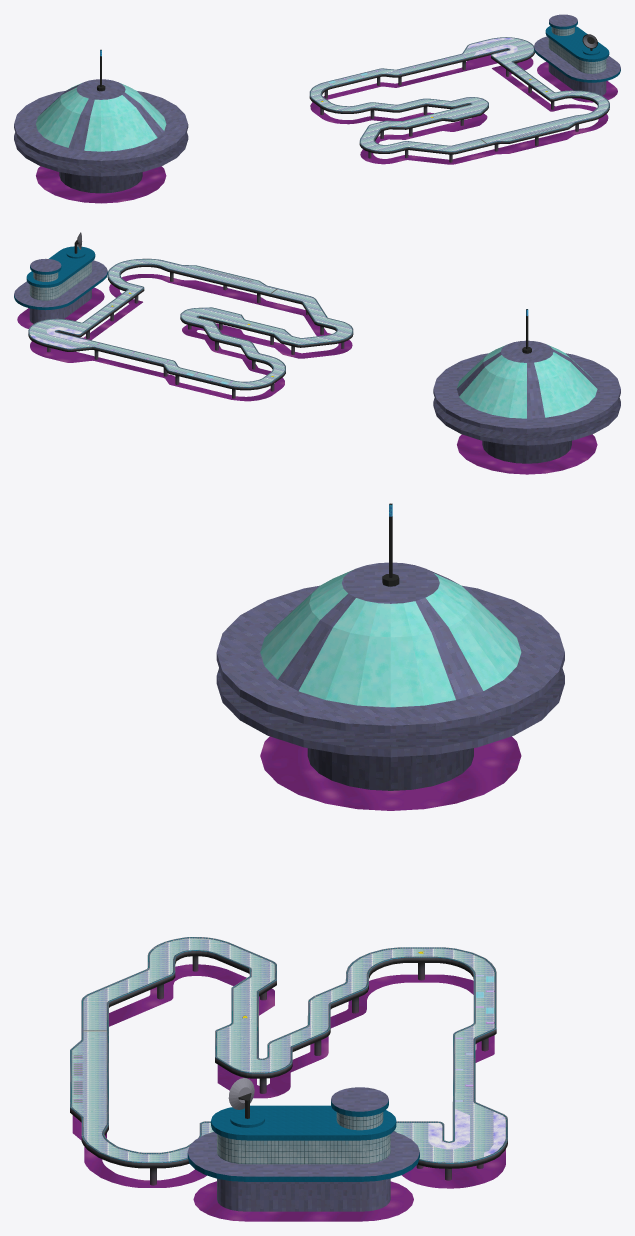
The picture shows the model from 3 angles, top to bottom: view 1: azimuth 30°, elevation 25°; view 2: azimuth 150°, elevation 25°; view 3: azimuth 270°, elevation 25°; orthographic projection. The views are drawn at different scales.
Visible parts, largest first — view 1: F_Zero_White_Land_1_SKP__PlainGray, F_Zero_White_Land_1_SKP__WhiteLand_wata2, F_Zero_White_Land_1_SKP__Material3, F_Zero_White_Land_1_SKP__DomeShield, F_Zero_White_Land_1_SKP__PlainGrayNotsoPlain, F_Zero_White_Land_1_SKP__TrackSides, F_Zero_White_Land_1_SKP__BUZZ, F_Zero_White_Land_1_SKP__Darkblue, F_Zero_White_Land_1_SKP__Skyscrapz0r, F_Zero_White_Land_1_SKP__BlueStripe, F_Zero_White_Land_1_SKP__Supports, F_Zero_White_Land_1_SKP__Material1; view 2: F_Zero_White_Land_1_SKP__PlainGray, F_Zero_White_Land_1_SKP__WhiteLand_wata2, F_Zero_White_Land_1_SKP__Material3, F_Zero_White_Land_1_SKP__DomeShield, F_Zero_White_Land_1_SKP__PlainGrayNotsoPlain, F_Zero_White_Land_1_SKP__TrackSides, F_Zero_White_Land_1_SKP__BUZZ, F_Zero_White_Land_1_SKP__Darkblue, F_Zero_White_Land_1_SKP__Skyscrapz0r, F_Zero_White_Land_1_SKP__BlueStripe, F_Zero_White_Land_1_SKP__Supports, F_Zero_White_Land_1_SKP__Material1; view 3: F_Zero_White_Land_1_SKP__PlainGray, F_Zero_White_Land_1_SKP__DomeShield, F_Zero_White_Land_1_SKP__WhiteLand_wata2, F_Zero_White_Land_1_SKP__Material3, F_Zero_White_Land_1_SKP__PlainGrayNotsoPlain, F_Zero_White_Land_1_SKP__Darkblue, F_Zero_White_Land_1_SKP__BUZZ, F_Zero_White_Land_1_SKP__Skyscrapz0r, F_Zero_White_Land_1_SKP__TrackSides, F_Zero_White_Land_1_SKP__Material1, F_Zero_White_Land_1_SKP__Supports.
Boxes of the visible parts, bbox=[...] form: F_Zero_White_Land_1_SKP__PlainGray: bbox=[14, 14, 620, 176]; F_Zero_White_Land_1_SKP__WhiteLand_wata2: bbox=[36, 55, 617, 203]; F_Zero_White_Land_1_SKP__Material3: bbox=[311, 38, 608, 151]; F_Zero_White_Land_1_SKP__DomeShield: bbox=[36, 83, 166, 151]; F_Zero_White_Land_1_SKP__PlainGrayNotsoPlain: bbox=[14, 132, 187, 193]; F_Zero_White_Land_1_SKP__TrackSides: bbox=[309, 40, 609, 154]; F_Zero_White_Land_1_SKP__BUZZ: bbox=[309, 37, 609, 151]; F_Zero_White_Land_1_SKP__Darkblue: bbox=[534, 21, 620, 82]; F_Zero_White_Land_1_SKP__Skyscrapz0r: bbox=[548, 27, 606, 73]; F_Zero_White_Land_1_SKP__BlueStripe: bbox=[100, 48, 609, 151]; F_Zero_White_Land_1_SKP__Supports: bbox=[320, 61, 578, 162]; F_Zero_White_Land_1_SKP__Material1: bbox=[467, 38, 517, 57]; F_Zero_White_Land_1_SKP__PlainGray: bbox=[14, 258, 620, 445]; F_Zero_White_Land_1_SKP__WhiteLand_wata2: bbox=[17, 274, 597, 474]; F_Zero_White_Land_1_SKP__Material3: bbox=[29, 259, 352, 386]; F_Zero_White_Land_1_SKP__DomeShield: bbox=[457, 344, 597, 418]; F_Zero_White_Land_1_SKP__PlainGrayNotsoPlain: bbox=[433, 398, 620, 463]; F_Zero_White_Land_1_SKP__TrackSides: bbox=[28, 241, 353, 390]; F_Zero_White_Land_1_SKP__BUZZ: bbox=[28, 258, 353, 387]; F_Zero_White_Land_1_SKP__Darkblue: bbox=[14, 246, 107, 310]; F_Zero_White_Land_1_SKP__Skyscrapz0r: bbox=[29, 262, 91, 300]; F_Zero_White_Land_1_SKP__BlueStripe: bbox=[29, 264, 528, 387]; F_Zero_White_Land_1_SKP__Supports: bbox=[47, 272, 344, 398]; F_Zero_White_Land_1_SKP__Material1: bbox=[30, 326, 90, 348]; F_Zero_White_Land_1_SKP__PlainGray: bbox=[187, 562, 564, 1211]; F_Zero_White_Land_1_SKP__DomeShield: bbox=[260, 569, 521, 707]; F_Zero_White_Land_1_SKP__WhiteLand_wata2: bbox=[72, 736, 521, 1221]; F_Zero_White_Land_1_SKP__Material3: bbox=[72, 938, 494, 1162]; F_Zero_White_Land_1_SKP__PlainGrayNotsoPlain: bbox=[216, 668, 564, 790]; F_Zero_White_Land_1_SKP__Darkblue: bbox=[187, 1100, 419, 1181]; F_Zero_White_Land_1_SKP__BUZZ: bbox=[70, 937, 507, 1162]; F_Zero_White_Land_1_SKP__Skyscrapz0r: bbox=[217, 1112, 390, 1164]; F_Zero_White_Land_1_SKP__TrackSides: bbox=[70, 951, 507, 1168]; F_Zero_White_Land_1_SKP__Material1: bbox=[428, 1109, 505, 1156]; F_Zero_White_Land_1_SKP__Supports: bbox=[150, 956, 488, 1185].
Size of what is drawn, in the model's own units: 220782 by 47804 by 85255.
23 materials, 22 textured.
